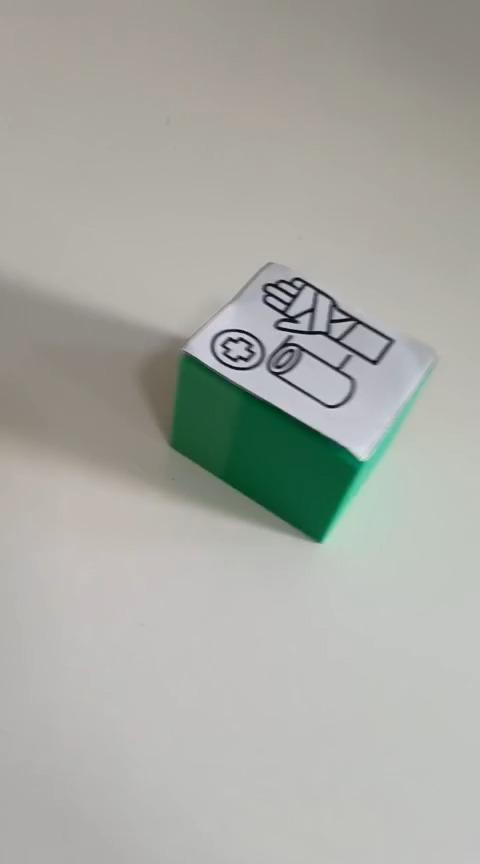Bandages: (168, 259, 438, 543)
